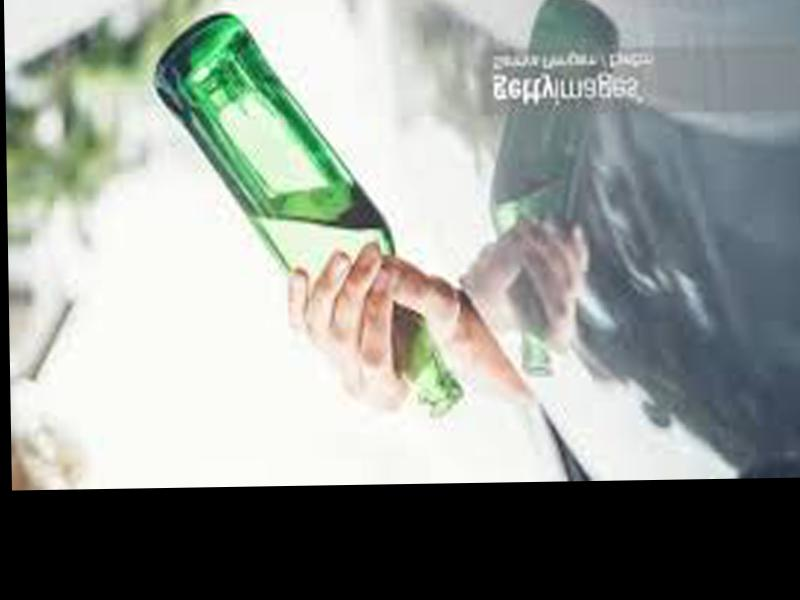Beer: (155, 7, 468, 418)
